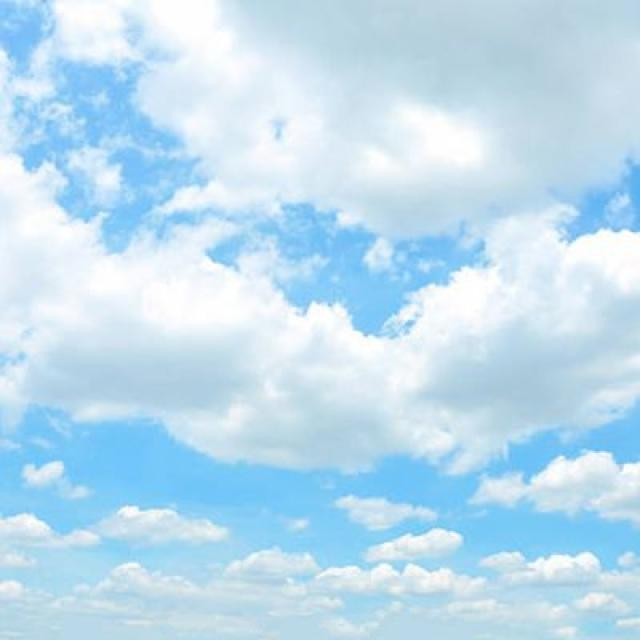Cc: (40, 47, 640, 627)
